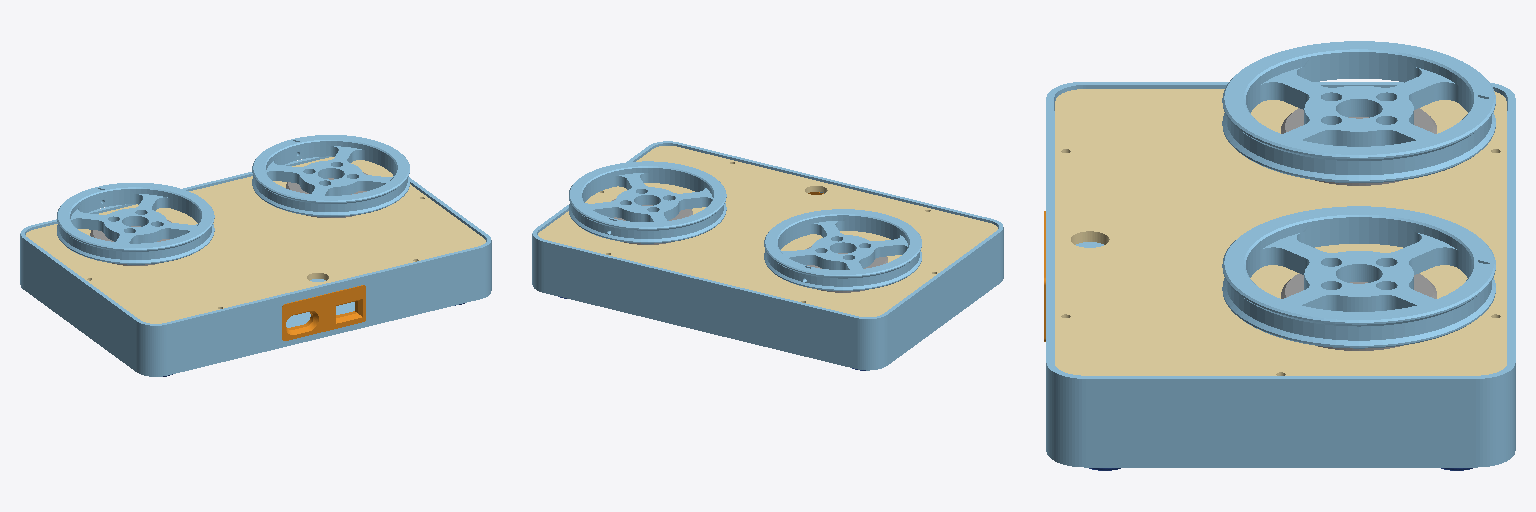
URDF robot description (motkinbench_dual_flywheel):
<?xml version="1.0" ?>
<!-- Generated using onshape-to-robot -->
<!-- Onshape https://cad.onshape.com/documents/581c9cc37f21d16430f878db/w/71943bc1e21e09c7efc95c4d/e/49410196dd3c5908d31aecdb -->
<robot name="motkinbench_dual_flywheel">
  <!-- Link base_link -->
  <link name="base_link">
    <inertial>
      <origin xyz="0 0 0" rpy="0 0 0"/>
      <mass value="1e-09"/>
      <inertia ixx="1e-09" ixy="0" ixz="0" iyy="1e-09" iyz="0" izz="1e-09"/>
    </inertial>
  </link>
  <!-- Link case -->
  <link name="case">
    <inertial>
      <origin xyz="0.00789938 0.0135971 0.00225065" rpy="0 0 0"/>
      <mass value="0.193781"/>
      <inertia ixx="0.000289186" ixy="0" ixz="0" iyy="0.000652997" iyz="-1.98334e-06" izz="0.000927223"/>
    </inertial>
    <!-- Part foot -->
    <visual>
      <origin xyz="0.00789938 0.0102628 -0.00394689" rpy="0 -0 0"/>
      <geometry>
        <mesh filename="package://assets/foot.stl"/>
      </geometry>
      <material name="foot_material">
        <color rgba="0.231373 0.380392 0.705882 1"/>
      </material>
    </visual>
    <collision>
      <origin xyz="0.00789938 0.0102628 -0.00394689" rpy="0 -0 0"/>
      <geometry>
        <mesh filename="package://assets/foot.stl"/>
      </geometry>
    </collision>
    <!-- Part foot_2 -->
    <visual>
      <origin xyz="0.00789938 0.100263 -0.00394689" rpy="0 -0 0"/>
      <geometry>
        <mesh filename="package://assets/foot.stl"/>
      </geometry>
      <material name="foot_2_material">
        <color rgba="0.231373 0.380392 0.705882 1"/>
      </material>
    </visual>
    <collision>
      <origin xyz="0.00789938 0.100263 -0.00394689" rpy="0 -0 0"/>
      <geometry>
        <mesh filename="package://assets/foot.stl"/>
      </geometry>
    </collision>
    <!-- Part conn_panel -->
    <visual>
      <origin xyz="0.00789938 -0.0455372 0.00805311" rpy="0 -0 0"/>
      <geometry>
        <mesh filename="package://assets/conn_panel.stl"/>
      </geometry>
      <material name="conn_panel_material">
        <color rgba="0.909804 0.572549 0.164706 1"/>
      </material>
    </visual>
    <collision>
      <origin xyz="0.00789938 -0.0455372 0.00805311" rpy="0 -0 0"/>
      <geometry>
        <mesh filename="package://assets/conn_panel.stl"/>
      </geometry>
    </collision>
    <!-- Part stator -->
    <visual>
      <origin xyz="0.0578994 0.0302628 0.00105311" rpy="0 -0 0"/>
      <geometry>
        <mesh filename="package://assets/stator.stl"/>
      </geometry>
      <material name="stator_material">
        <color rgba="0.439216 0.47451 0.501961 1"/>
      </material>
    </visual>
    <collision>
      <origin xyz="0.0578994 0.0302628 0.00105311" rpy="0 -0 0"/>
      <geometry>
        <mesh filename="package://assets/stator.stl"/>
      </geometry>
    </collision>
    <!-- Part stator_2 -->
    <visual>
      <origin xyz="-0.0421006 0.0302628 0.00105311" rpy="0 -0 0"/>
      <geometry>
        <mesh filename="package://assets/stator.stl"/>
      </geometry>
      <material name="stator_2_material">
        <color rgba="0.439216 0.47451 0.501961 1"/>
      </material>
    </visual>
    <collision>
      <origin xyz="-0.0421006 0.0302628 0.00105311" rpy="0 -0 0"/>
      <geometry>
        <mesh filename="package://assets/stator.stl"/>
      </geometry>
    </collision>
    <!-- Part foot_3 -->
    <visual>
      <origin xyz="-0.142101 0.100263 -0.00394689" rpy="0 -0 0"/>
      <geometry>
        <mesh filename="package://assets/foot.stl"/>
      </geometry>
      <material name="foot_3_material">
        <color rgba="0.231373 0.380392 0.705882 1"/>
      </material>
    </visual>
    <collision>
      <origin xyz="-0.142101 0.100263 -0.00394689" rpy="0 -0 0"/>
      <geometry>
        <mesh filename="package://assets/foot.stl"/>
      </geometry>
    </collision>
    <!-- Part foot_4 -->
    <visual>
      <origin xyz="-0.142101 0.0102628 -0.00394689" rpy="0 -0 0"/>
      <geometry>
        <mesh filename="package://assets/foot.stl"/>
      </geometry>
      <material name="foot_4_material">
        <color rgba="0.231373 0.380392 0.705882 1"/>
      </material>
    </visual>
    <collision>
      <origin xyz="-0.142101 0.0102628 -0.00394689" rpy="0 -0 0"/>
      <geometry>
        <mesh filename="package://assets/foot.stl"/>
      </geometry>
    </collision>
    <!-- Part case -->
    <visual>
      <origin xyz="0.00789938 0.0102628 -0.00394689" rpy="0 -0 0"/>
      <geometry>
        <mesh filename="package://assets/case.stl"/>
      </geometry>
      <material name="case_material">
        <color rgba="0.615686 0.811765 0.929412 1"/>
      </material>
    </visual>
    <collision>
      <origin xyz="0.00789938 0.0102628 -0.00394689" rpy="0 -0 0"/>
      <geometry>
        <mesh filename="package://assets/case.stl"/>
      </geometry>
    </collision>
  </link>
  <!-- Link rotor -->
  <link name="rotor">
    <inertial>
      <origin xyz="2.66e-10 1.78271e-05 -0.0143314" rpy="0 0 0"/>
      <mass value="0.0436811"/>
      <inertia ixx="1.15924e-05" ixy="0" ixz="0" iyy="1.1617e-05" iyz="6.725e-09" izz="1.81276e-05"/>
    </inertial>
    <!-- Part wheel -->
    <visual>
      <origin xyz="0 0 -0.019" rpy="3.14159 -0 0"/>
      <geometry>
        <mesh filename="package://assets/wheel.stl"/>
      </geometry>
      <material name="wheel_material">
        <color rgba="0.615686 0.811765 0.929412 1"/>
      </material>
    </visual>
    <collision>
      <origin xyz="0 0 -0.019" rpy="3.14159 -0 0"/>
      <geometry>
        <mesh filename="package://assets/wheel.stl"/>
      </geometry>
    </collision>
    <!-- Part rotor -->
    <visual>
      <origin xyz="0 0 0.007" rpy="3.14159 -0 0"/>
      <geometry>
        <mesh filename="package://assets/rotor.stl"/>
      </geometry>
      <material name="rotor_material">
        <color rgba="0.647059 0.647059 0.647059 1"/>
      </material>
    </visual>
    <collision>
      <origin xyz="0 0 0.007" rpy="3.14159 -0 0"/>
      <geometry>
        <mesh filename="package://assets/rotor.stl"/>
      </geometry>
    </collision>
  </link>
  <!-- Joint from case to rotor -->
  <joint name="motor_1" type="continuous">
    <origin xyz="-0.0421006 0.0302628 0.00805311" rpy="3.14159 -0 0"/>
    <parent link="case"/>
    <child link="rotor"/>
    <axis xyz="0 0 1"/>
    <limit effort="10" velocity="10"/>
  </joint>
  <!-- Link rotor_2 -->
  <link name="rotor_2">
    <inertial>
      <origin xyz="2.66e-10 1.78271e-05 -0.0143314" rpy="0 0 0"/>
      <mass value="0.0436811"/>
      <inertia ixx="1.15924e-05" ixy="0" ixz="0" iyy="1.1617e-05" iyz="6.725e-09" izz="1.81276e-05"/>
    </inertial>
    <!-- Part wheel_2 -->
    <visual>
      <origin xyz="0 0 -0.019" rpy="3.14159 -0 0"/>
      <geometry>
        <mesh filename="package://assets/wheel.stl"/>
      </geometry>
      <material name="wheel_2_material">
        <color rgba="0.615686 0.811765 0.929412 1"/>
      </material>
    </visual>
    <collision>
      <origin xyz="0 0 -0.019" rpy="3.14159 -0 0"/>
      <geometry>
        <mesh filename="package://assets/wheel.stl"/>
      </geometry>
    </collision>
    <!-- Part rotor_2 -->
    <visual>
      <origin xyz="0 0 0.007" rpy="3.14159 -0 0"/>
      <geometry>
        <mesh filename="package://assets/rotor.stl"/>
      </geometry>
      <material name="rotor_2_material">
        <color rgba="0.647059 0.647059 0.647059 1"/>
      </material>
    </visual>
    <collision>
      <origin xyz="0 0 0.007" rpy="3.14159 -0 0"/>
      <geometry>
        <mesh filename="package://assets/rotor.stl"/>
      </geometry>
    </collision>
  </link>
  <!-- Joint from case to rotor_2 -->
  <joint name="motor_2" type="continuous">
    <origin xyz="0.0578994 0.0302628 0.00805311" rpy="3.14159 -0 0"/>
    <parent link="case"/>
    <child link="rotor_2"/>
    <axis xyz="0 0 1"/>
    <limit effort="10" velocity="10"/>
  </joint>
  <!-- Joint from base_link to case -->
  <joint name="base_link_to_case" type="fixed">
    <origin xyz="0 0 0" rpy="0 -0 0"/>
    <parent link="base_link"/>
    <child link="case"/>
    <axis xyz="0 0 1"/>
    <limit effort="10" velocity="10"/>
  </joint>
  <!-- Link c_0402_1005metric -->
  <link name="c_0402_1005metric">
    <inertial>
      <origin xyz="0 0 0" rpy="0 0 0"/>
      <mass value="1e-09"/>
      <inertia ixx="1e-09" ixy="0" ixz="0" iyy="1e-09" iyz="0" izz="1e-09"/>
    </inertial>
  </link>
  <!-- Joint from base_link to c_0402_1005metric -->
  <joint name="base_link_to_c_0402_1005metric" type="fixed">
    <origin xyz="0 0 0" rpy="0 -0 0"/>
    <parent link="base_link"/>
    <child link="c_0402_1005metric"/>
    <axis xyz="0 0 1"/>
    <limit effort="10" velocity="10"/>
  </joint>
  <!-- Link top_cover -->
  <link name="top_cover">
    <inertial>
      <origin xyz="0.00788351 0.00728336 0.0185531" rpy="0 0 0"/>
      <mass value="0.0649221"/>
      <inertia ixx="7.68894e-05" ixy="-4.728e-08" ixz="0" iyy="0.000165678" iyz="0" izz="0.00024247"/>
    </inertial>
    <!-- Part top_cover -->
    <visual>
      <origin xyz="0.00789938 0.0102628 -0.00394689" rpy="0 -0 0"/>
      <geometry>
        <mesh filename="package://assets/top_cover.stl"/>
      </geometry>
      <material name="top_cover_material">
        <color rgba="0.941176 0.87451 0.678431 0.231373"/>
      </material>
    </visual>
    <collision>
      <origin xyz="0.00789938 0.0102628 -0.00394689" rpy="0 -0 0"/>
      <geometry>
        <mesh filename="package://assets/top_cover.stl"/>
      </geometry>
    </collision>
  </link>
  <!-- Joint from base_link to top_cover -->
  <joint name="base_link_to_top_cover" type="fixed">
    <origin xyz="0 0 0" rpy="0 -0 0"/>
    <parent link="base_link"/>
    <child link="top_cover"/>
    <axis xyz="0 0 1"/>
    <limit effort="10" velocity="10"/>
  </joint>
</robot>

--- Facts derived from the render (not from the file) ---
3 views of the same robot in one strip: view 1: azimuth 30°, elevation 25°; view 2: azimuth 150°, elevation 25°; view 3: azimuth 270°, elevation 25° (orthographic).
Robot: motkinbench_dual_flywheel — 6 links, 5 joints (2 continuous, 3 fixed); root link base_link; default pose: all joints at 0.
Visible links, largest first — view 1: top_cover, case, rotor_2, rotor; view 2: case, top_cover, rotor, rotor_2; view 3: top_cover, case, rotor, rotor_2.
Link boxes in pixels (x1,y1,x2,y2): top_cover: [26, 157, 485, 323]; case: [20, 156, 491, 376]; rotor_2: [252, 135, 409, 217]; rotor: [57, 183, 214, 265]; case: [532, 141, 1003, 370]; top_cover: [538, 146, 997, 316]; rotor: [764, 209, 921, 292]; rotor_2: [569, 161, 726, 244]; top_cover: [1055, 89, 1506, 375]; case: [1044, 82, 1515, 470]; rotor: [1222, 41, 1495, 185]; rotor_2: [1222, 206, 1495, 350].
Bounding box of the posed robot: 0.18 × 0.1205 × 0.044 m (x, y, z).
13 mesh visuals loaded from 7 distinct referenced files (7 binary STL).
